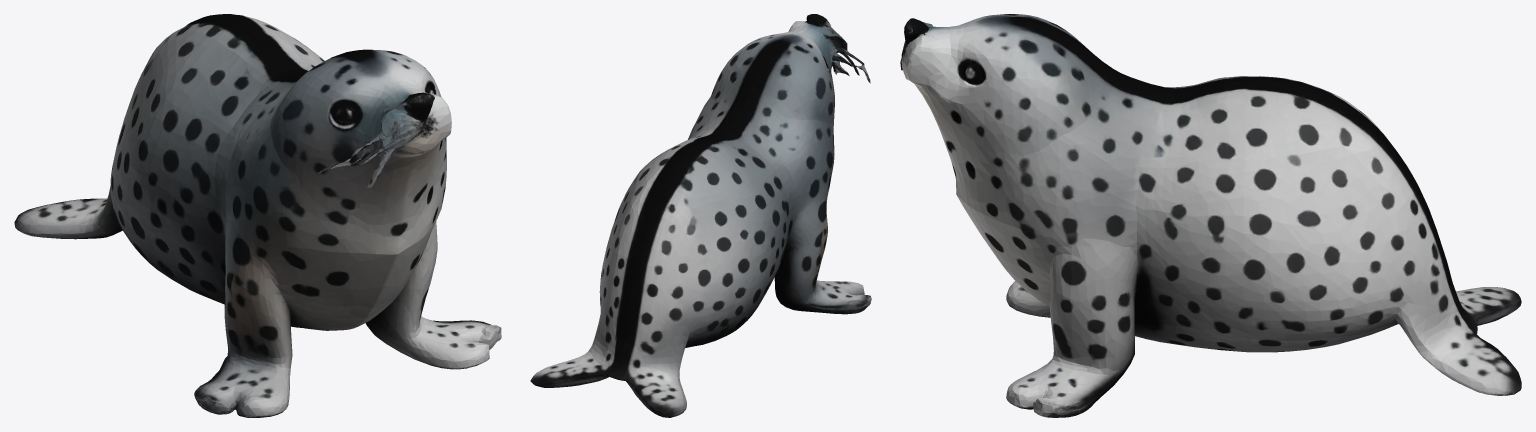
The model's file is leopard_seal.glb.
3 views of the same model, side by side, from view 1: azimuth 30°, elevation 25°; view 2: azimuth 150°, elevation 25°; view 3: azimuth 270°, elevation 25° (orthographic). The views are drawn at different scales.
Visible parts, largest first — view 1: geometry_0; view 2: geometry_0; view 3: geometry_0.
Part boxes in pixels (x1=…): geometry_0: x1=14, y1=14, x2=501, y2=417; geometry_0: x1=530, y1=14, x2=871, y2=417; geometry_0: x1=900, y1=14, x2=1521, y2=417.
Bounding box in the file's own units: 0.5434 × 0.5903 × 0.9994.
1 material, 1 textured.
